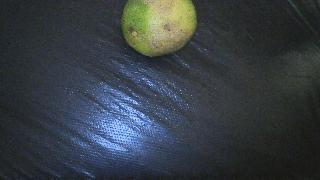DESECHO: (121, 0, 197, 57)
